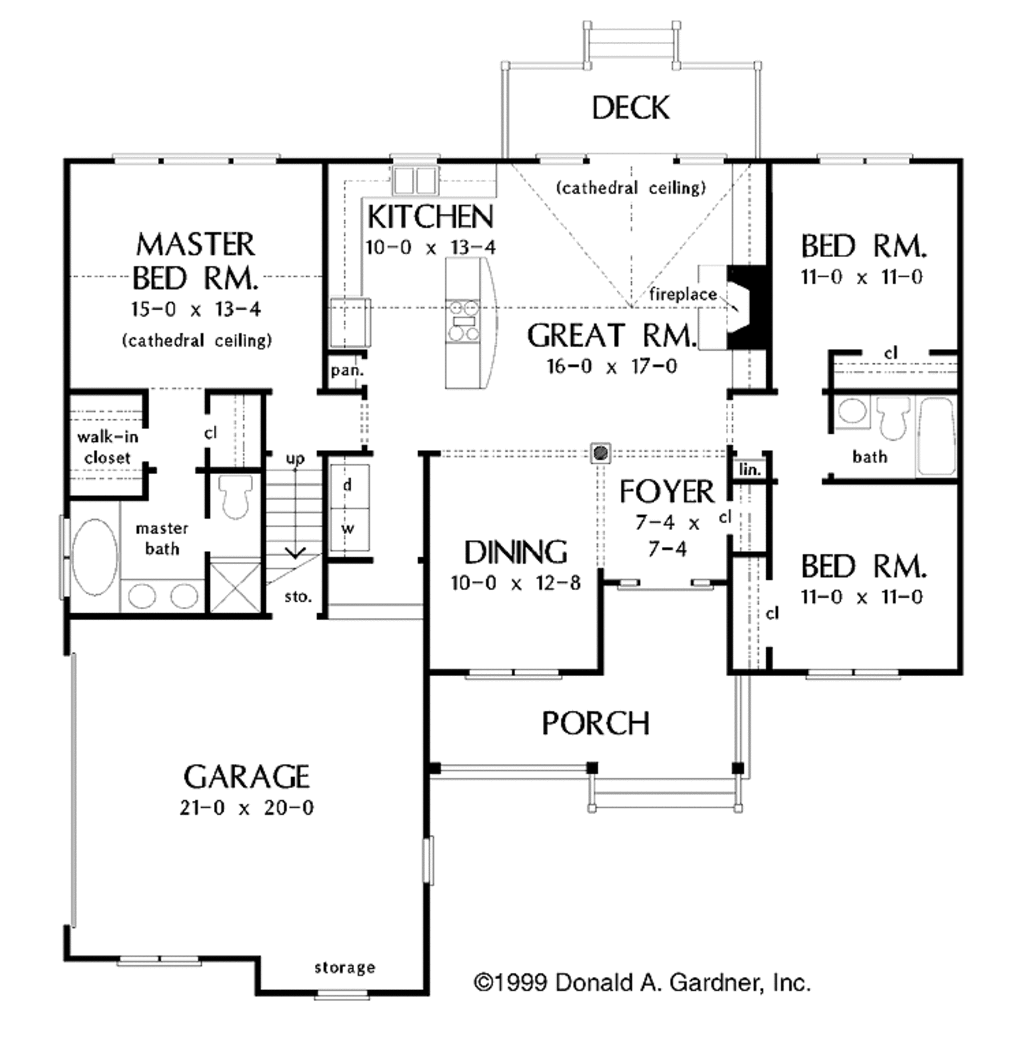kitchen_bar: (430, 241, 509, 395)
large_sink: (202, 471, 266, 530), (874, 390, 915, 441)
small_sink: (117, 559, 210, 615), (833, 395, 869, 433)
stairs: (253, 438, 327, 615)
tub: (69, 497, 122, 617), (914, 390, 956, 482)
twin_sink: (386, 154, 445, 205)
window: (107, 146, 278, 172), (459, 658, 566, 684), (104, 946, 207, 969), (302, 979, 378, 1004), (409, 830, 440, 889), (815, 149, 919, 166), (789, 666, 897, 681)
